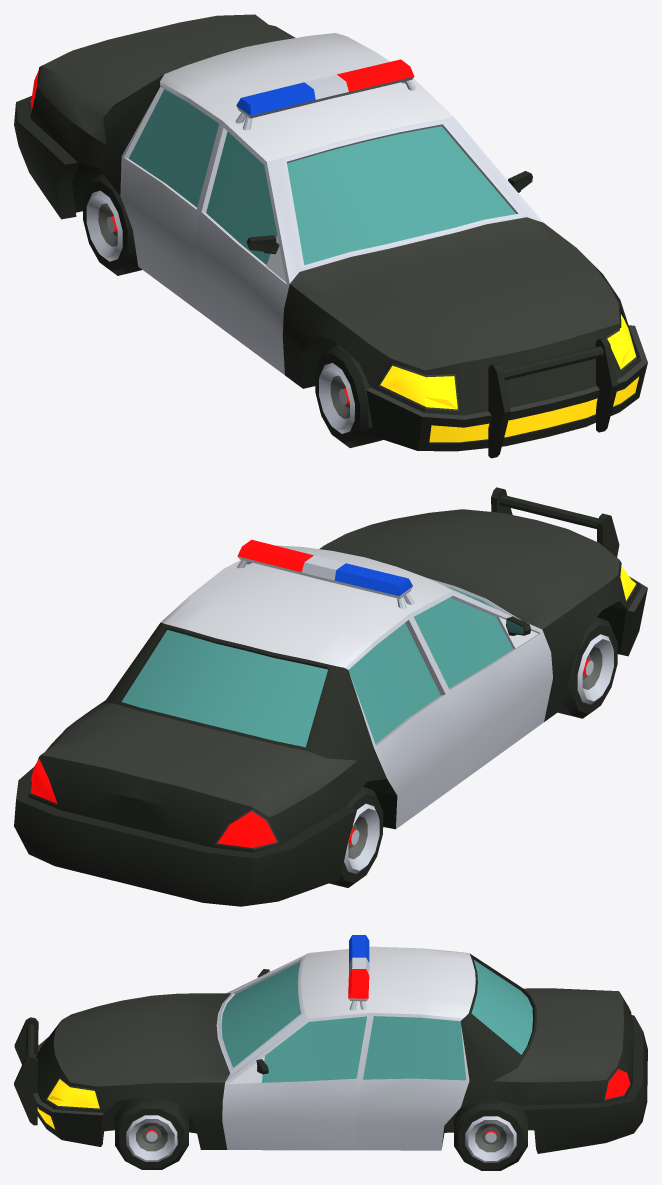
File: Police_Car.glb
The picture shows the model from 3 angles, top to bottom: view 1: azimuth 30°, elevation 25°; view 2: azimuth 150°, elevation 25°; view 3: azimuth 270°, elevation 25°; orthographic projection. The views are drawn at different scales.
Visible parts, largest first — view 1: PoliceCar; view 2: PoliceCar; view 3: PoliceCar.
Boxes of the visible parts, box(x1,y1,x2,y2) form: PoliceCar: box(14, 14, 647, 458); PoliceCar: box(14, 487, 647, 906); PoliceCar: box(14, 935, 647, 1170).
Size of what is drawn, in the model's own units: 2.61 by 1.92 by 6.72.
1 material, 1 textured.
